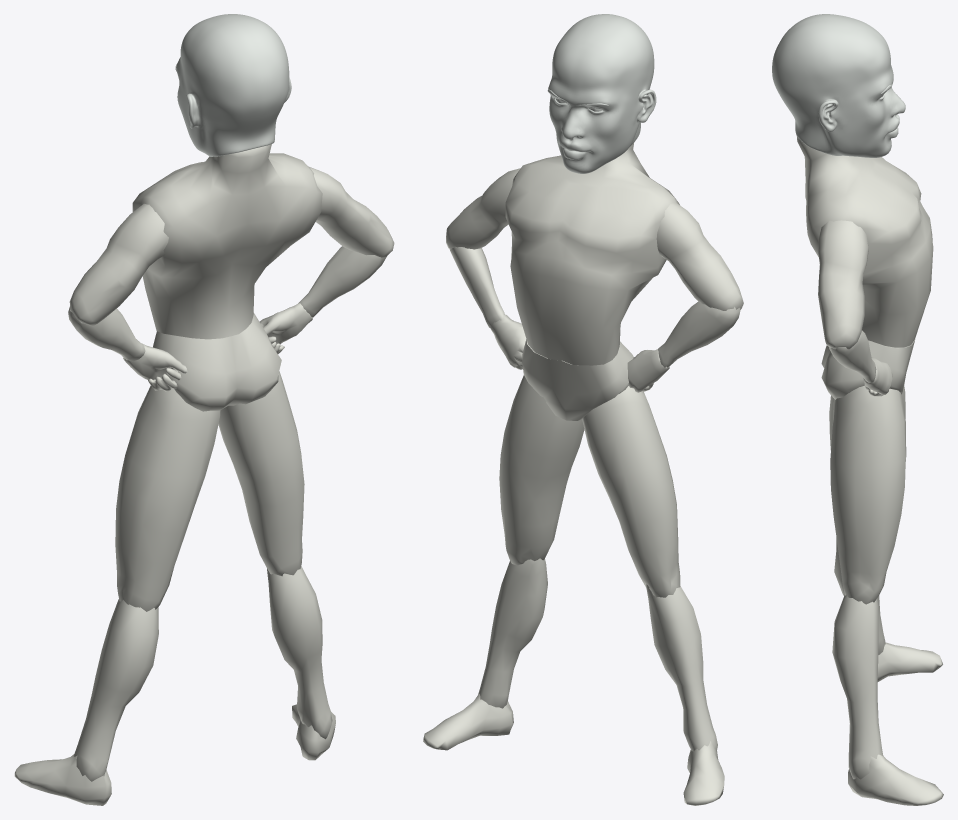
Rendered from rename.fbx.
3 renders of one model, left to right at view 1: azimuth 30°, elevation 25°; view 2: azimuth 150°, elevation 25°; view 3: azimuth 270°, elevation 25°, orthographic. The views are drawn at different scales.
Parts seen in each view (by area): view 1: node_id114, node_id86, node_id62, node_id106, node_id84, node_id116, node_id108, node_id80, node_id112, node_id82, node_id96, node_id78 (+3 smaller); view 2: node_id114, node_id62, node_id86, node_id106, node_id84, node_id108, node_id116, node_id80, node_id112, node_id110, node_id78, node_id96 (+3 smaller); view 3: node_id114, node_id62, node_id106, node_id108, node_id112, node_id110, node_id116, node_id82, node_id96, node_id98, node_id84.
Boxes of the visible parts, box(x1,y1,x2,y2) form: node_id114: box(132, 144, 322, 339); node_id86: box(115, 385, 220, 611); node_id62: box(175, 14, 291, 156); node_id106: box(218, 371, 304, 576); node_id84: box(74, 599, 158, 781); node_id116: box(153, 313, 281, 411); node_id108: box(267, 566, 332, 739); node_id80: box(69, 203, 168, 325); node_id112: box(308, 166, 394, 258); node_id82: box(14, 754, 111, 805); node_id96: box(298, 246, 386, 317); node_id78: box(68, 306, 145, 361); node_id114: box(505, 142, 679, 365); node_id62: box(547, 14, 656, 173); node_id86: box(582, 386, 680, 597); node_id106: box(499, 375, 584, 565); node_id84: box(646, 584, 717, 751); node_id108: box(478, 558, 547, 708); node_id116: box(522, 339, 633, 420); node_id80: box(656, 203, 743, 310); node_id112: box(446, 168, 520, 249); node_id110: box(423, 694, 513, 750); node_id78: box(658, 301, 740, 367); node_id96: box(449, 246, 504, 328); node_id114: box(797, 137, 933, 347); node_id62: box(772, 14, 905, 157); node_id106: box(830, 385, 906, 604); node_id108: box(832, 594, 883, 779); node_id112: box(818, 220, 868, 349); node_id110: box(848, 754, 943, 805); node_id116: box(821, 339, 915, 399); node_id82: box(877, 642, 942, 681); node_id96: box(829, 330, 876, 382); node_id98: box(863, 357, 892, 394); node_id84: box(834, 538, 885, 654).
Bounding box in the file's own units: 0.2471 × 0.5519 × 0.1179.
Materials: 21 (21 with a texture image).
